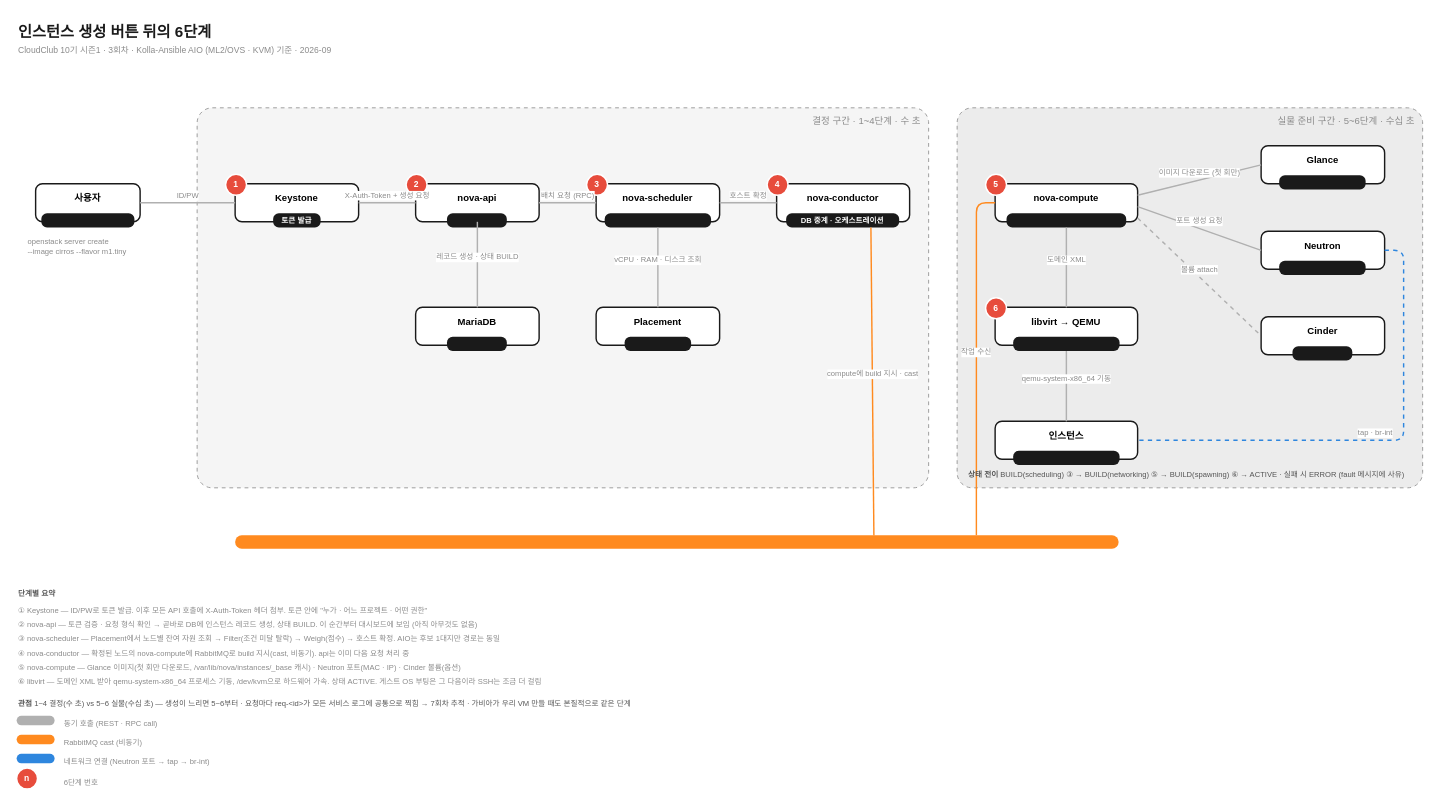
Image size: 1440x806. Some labels were removed from this diagram. Each missing label, with the centre of its shape:
"BUILD → ACTIVE" goes at point 1066,457.
"compute 노드 · AIO" goes at point 1066,220.
"Filter · Weigh" goes at point 657,220.
"Horizon · CLI" goes at point 87,220.
"KVM · /dev/kvm" goes at point 1066,343.
"nova DB" goes at point 476,343.
"RabbitMQ (AMQP) · 서비스 간 RPC · cast = 던지고 안 기다림" goes at point 676,541.
"REST 접수" goes at point 476,220.
"볼륨 (옵션)" goes at point 1322,353.
"이미지 · 로컬 캐시" goes at point 1322,182.
"잔여 자원 재고" goes at point 657,343.
"포트 · MAC/IP" goes at point 1322,267.
